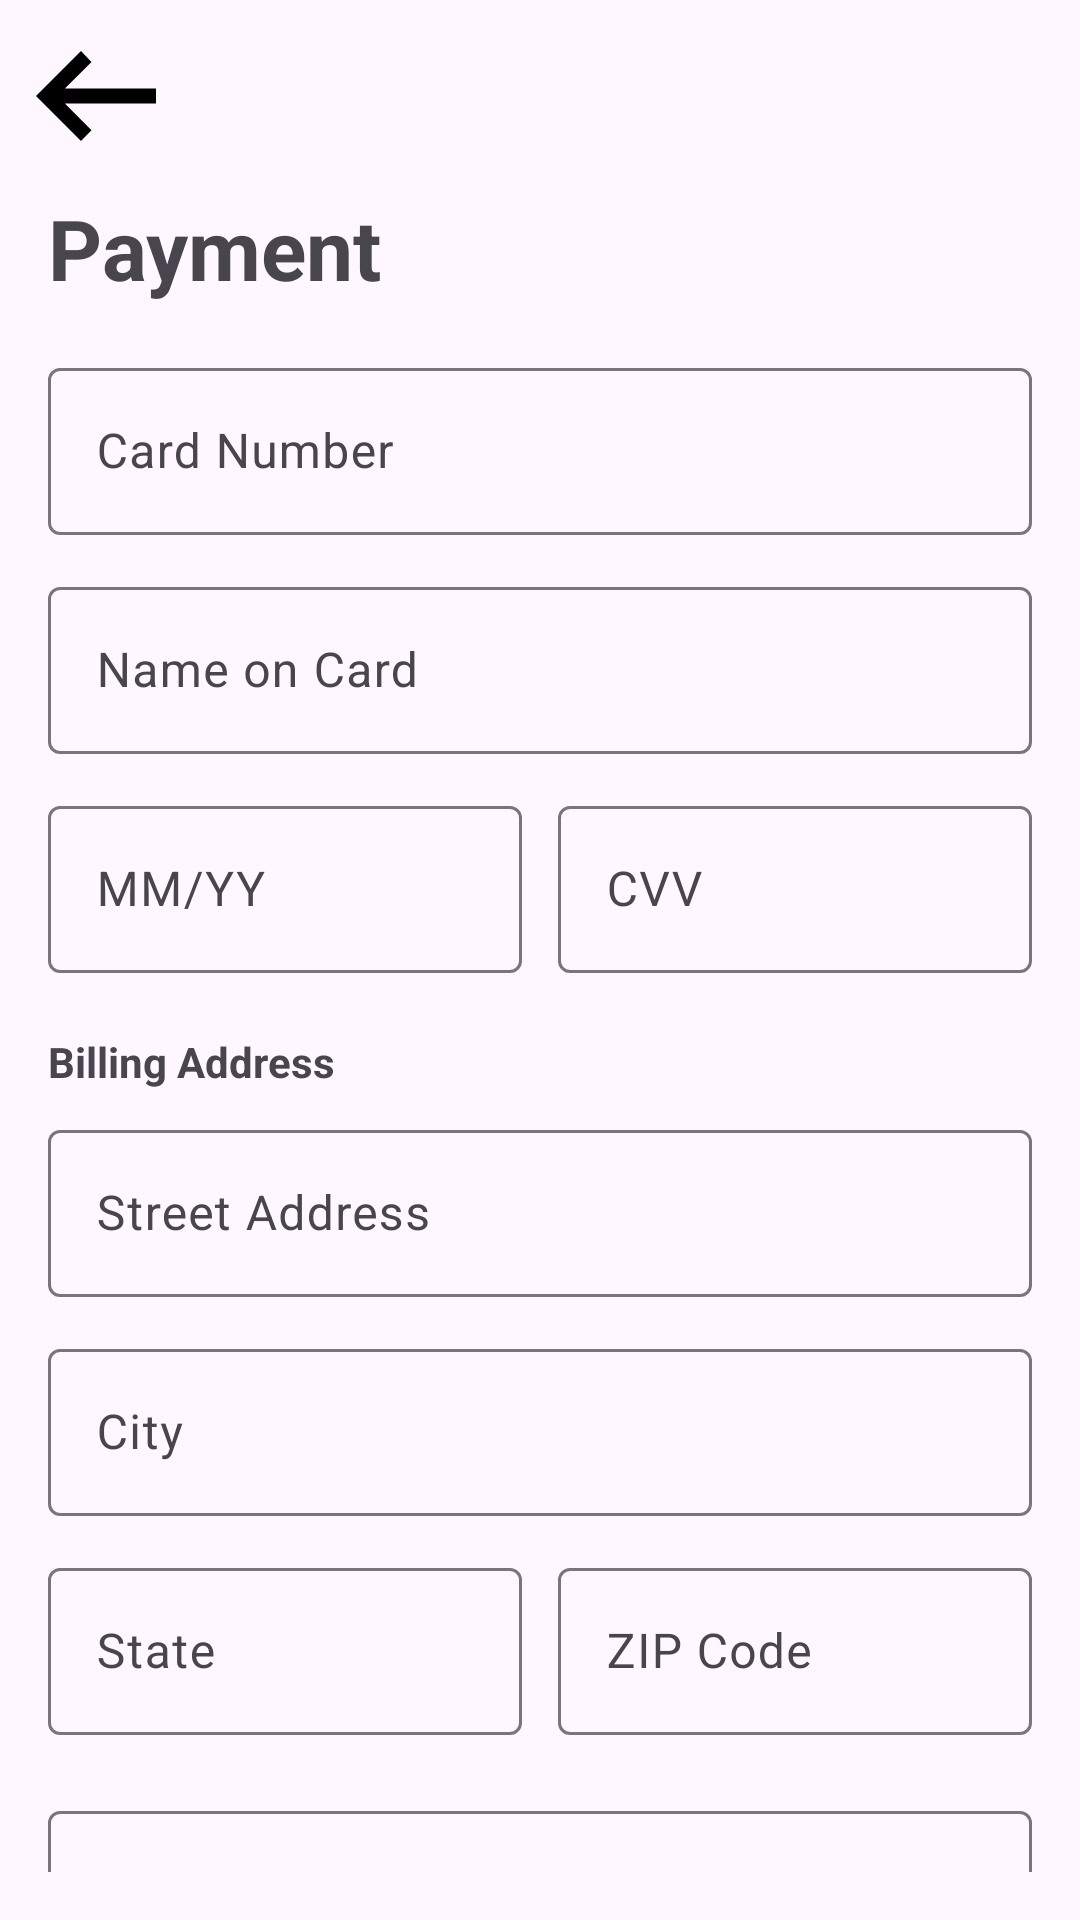

Screen size 1080 × 1920. Icon name, then its box in pixels as (x1, y1, x2, y2):
Back: (36, 51, 156, 141)
